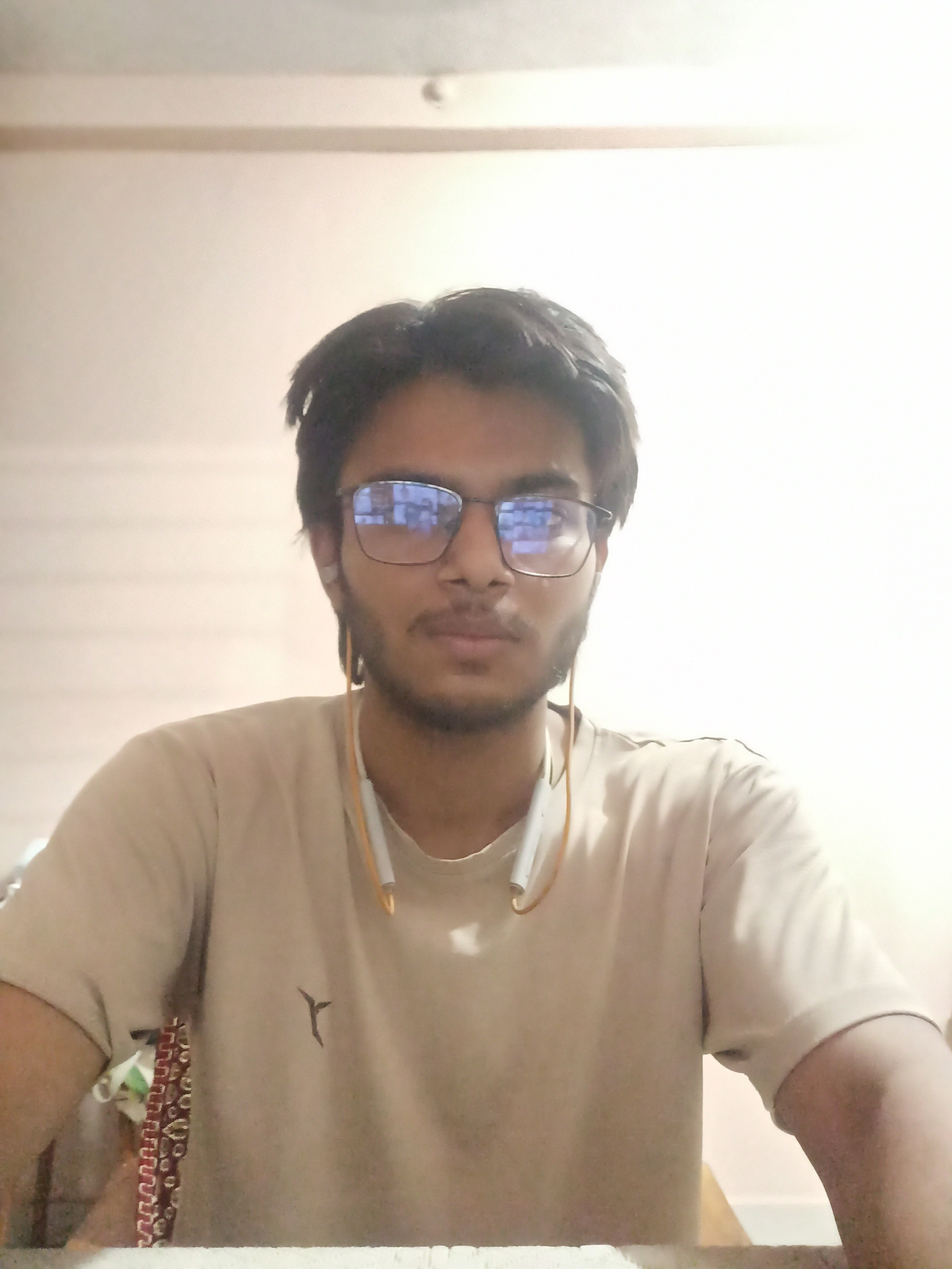Focused: (209, 242, 646, 821)
